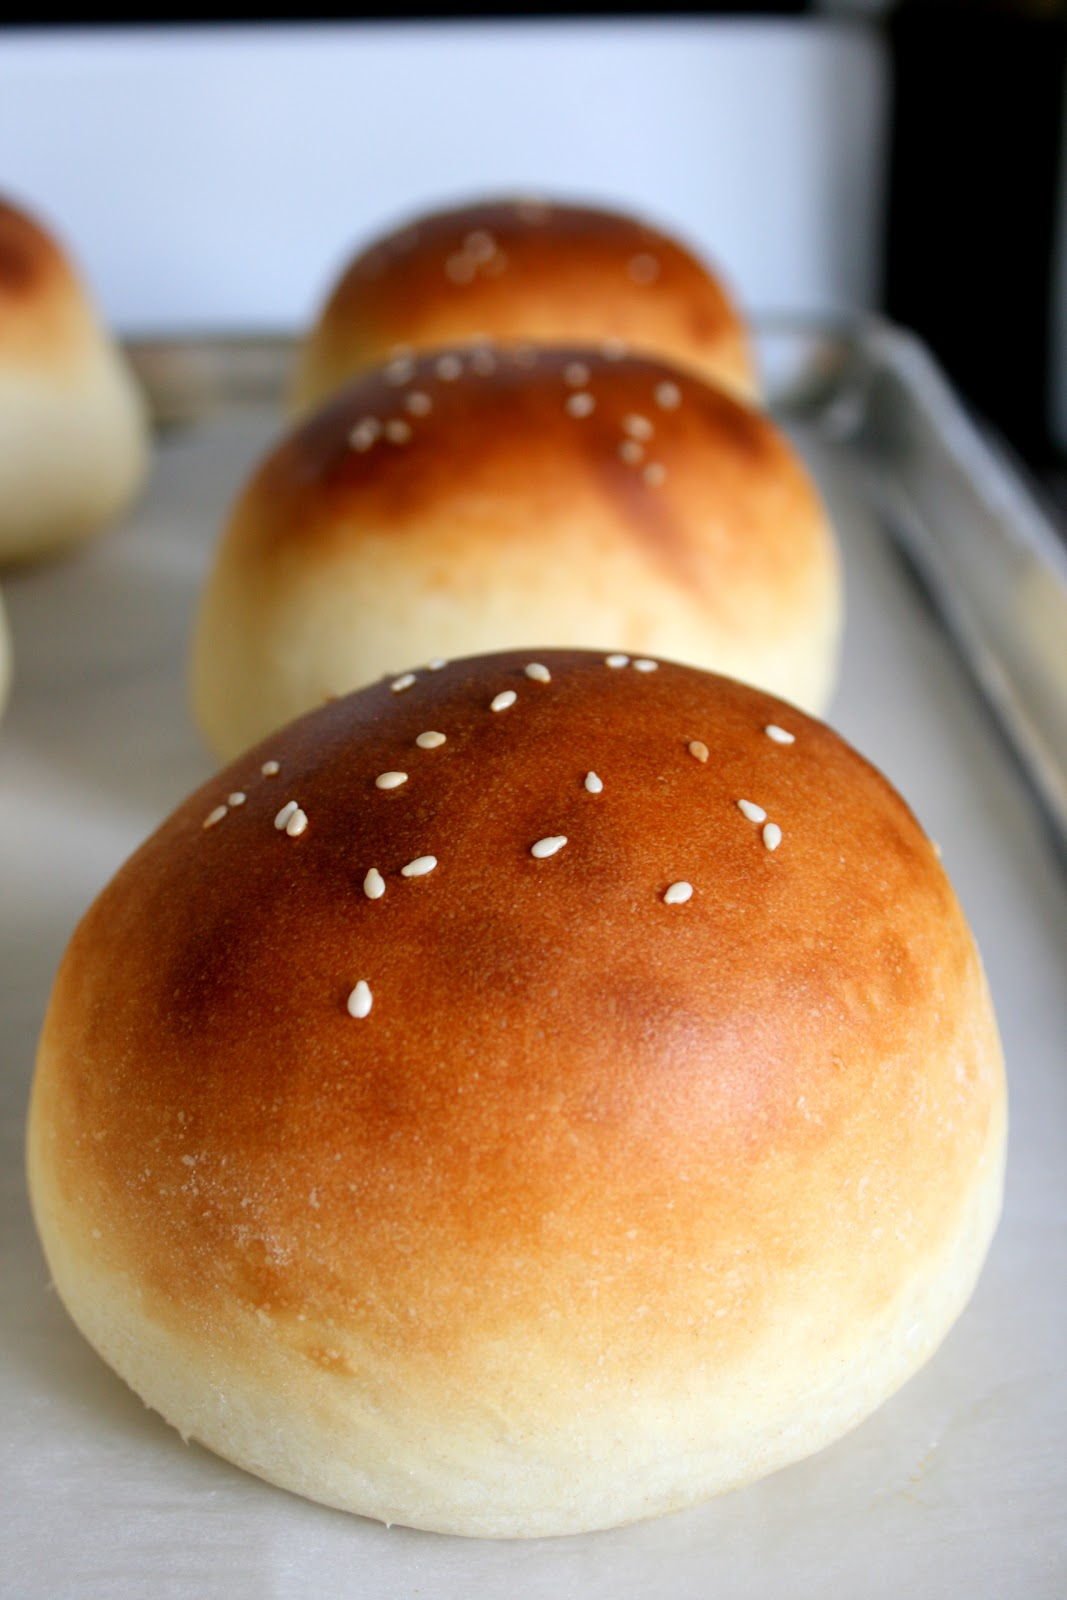hamburger_buns: (35, 627, 999, 1546), (191, 335, 876, 746)
